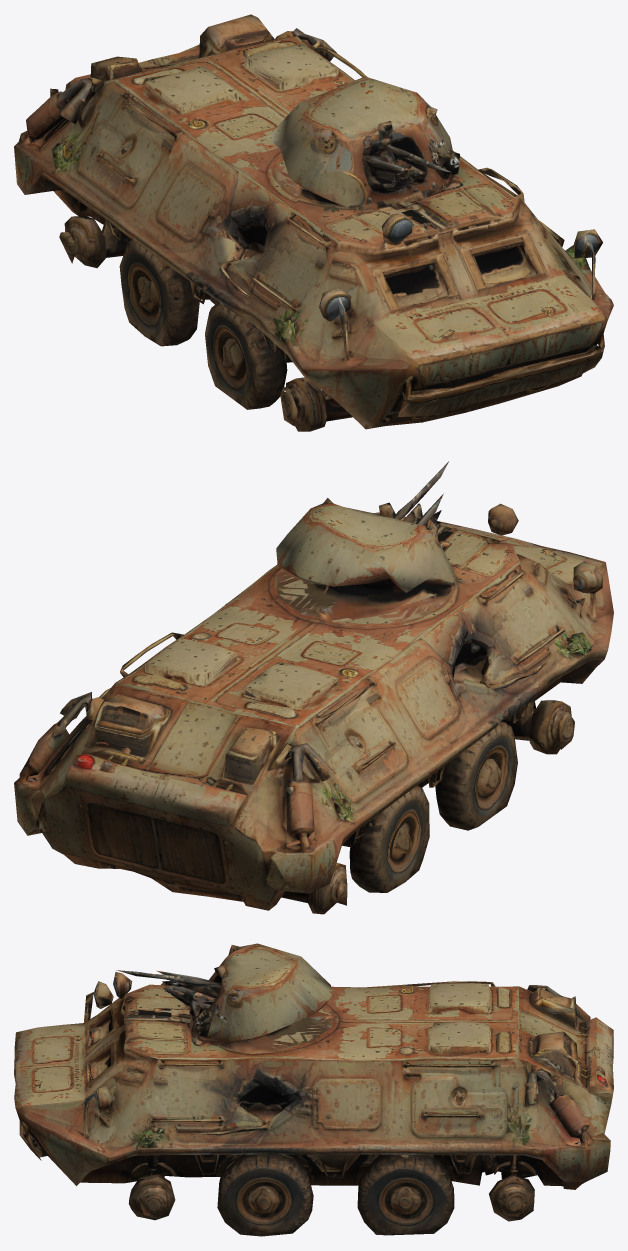
The model's file is Wreck_BTR60.fbx.
3 views of the same model, one above another, from view 1: azimuth 30°, elevation 25°; view 2: azimuth 150°, elevation 25°; view 3: azimuth 270°, elevation 25° (orthographic). The views are drawn at different scales.
Parts seen in each view (by area): view 1: texture_mapping; view 2: texture_mapping; view 3: texture_mapping.
Boxes of the visible parts, left/top/right/bottom form: texture_mapping: left=14, top=14, right=613, bottom=431; texture_mapping: left=14, top=461, right=613, bottom=914; texture_mapping: left=14, top=943, right=613, bottom=1236.
Bounding box in the file's own units: 0.4835 × 0.9983 × 0.4161.
Materials: 1 (1 with a texture image).
